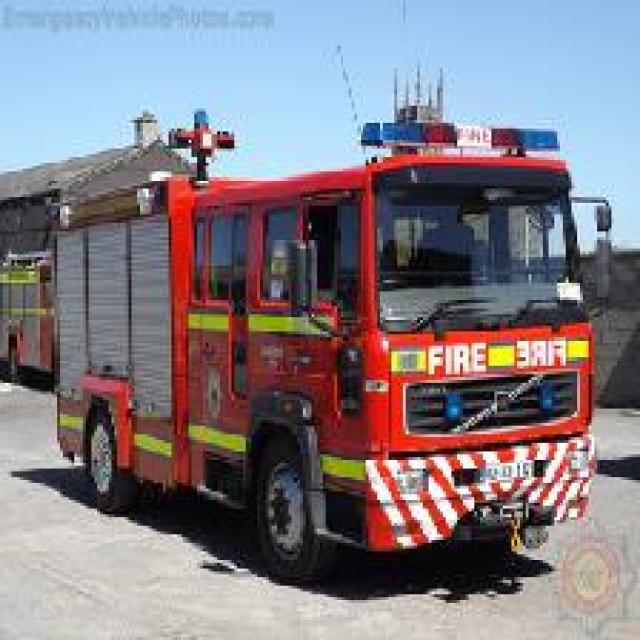Fire-truck: (3, 71, 614, 583)
